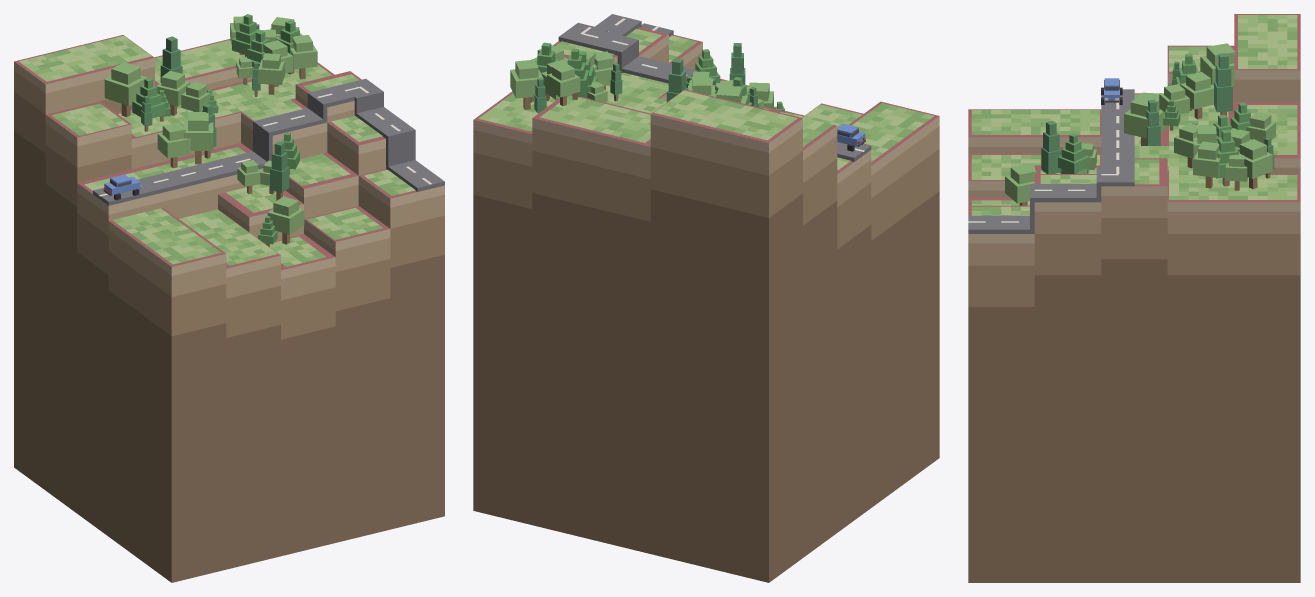
The model's file is block_21_greenroof_0.glb.
The picture shows the model from 3 angles, left to right: view 1: azimuth 30°, elevation 25°; view 2: azimuth 150°, elevation 25°; view 3: azimuth 270°, elevation 25°; orthographic projection. The views are drawn at different scales.
Parts seen in each view (by area): view 1: Patch_UpperRight_b22_GR, Green_UpperRight_b21_GR, Roads_UpperRight_b22_GR, URTree_21_6_GR, URTree_21_13_GR, URTree_21_3_GR, URTree_21_8_GR, URTree_21_11_GR, URTree_21_23_GR, URTree_21_26_GR, URTree_21_10_GR, URTree_21_2_GR (+5 smaller); view 2: Patch_UpperRight_b22_GR, Green_UpperRight_b21_GR, Roads_UpperRight_b22_GR, URTree_21_25_GR, URTree_21_17_GR, URTree_21_7_GR; view 3: Patch_UpperRight_b22_GR, Green_UpperRight_b21_GR, Roads_UpperRight_b22_GR, URTree_21_3_GR, URTree_21_25_GR, URTree_21_7_GR, URTree_21_10_GR, URTree_21_13_GR, URTree_21_23_GR, URTree_21_11_GR, URTree_21_15_GR, URTree_21_6_GR (+8 smaller).
Part boxes in pixels (box(x1,y1,x2,y2)): Patch_UpperRight_b22_GR: box(14, 35, 444, 582); Green_UpperRight_b21_GR: box(19, 35, 415, 266); Roads_UpperRight_b22_GR: box(93, 78, 444, 205); URTree_21_6_GR: box(104, 62, 147, 117); URTree_21_13_GR: box(267, 196, 304, 244); URTree_21_3_GR: box(183, 112, 213, 164); URTree_21_8_GR: box(157, 122, 190, 168); URTree_21_11_GR: box(270, 141, 289, 200); URTree_21_23_GR: box(290, 35, 317, 79); URTree_21_26_GR: box(258, 53, 284, 94); URTree_21_10_GR: box(156, 71, 190, 115); URTree_21_2_GR: box(132, 77, 165, 125); Patch_UpperRight_b22_GR: box(473, 27, 939, 582); Green_UpperRight_b21_GR: box(478, 29, 934, 169); Roads_UpperRight_b22_GR: box(558, 14, 871, 161); URTree_21_25_GR: box(510, 59, 543, 109); URTree_21_17_GR: box(547, 63, 580, 106); URTree_21_7_GR: box(666, 58, 688, 102); Patch_UpperRight_b22_GR: box(968, 14, 1300, 582); Green_UpperRight_b21_GR: box(971, 15, 1297, 215); Roads_UpperRight_b22_GR: box(968, 89, 1134, 233); URTree_21_3_GR: box(1124, 94, 1167, 145); URTree_21_25_GR: box(1239, 139, 1272, 189); URTree_21_7_GR: box(1214, 53, 1232, 115); URTree_21_10_GR: box(1180, 71, 1213, 119); URTree_21_13_GR: box(1005, 164, 1036, 205); URTree_21_23_GR: box(1193, 141, 1220, 188); URTree_21_11_GR: box(1041, 120, 1061, 173); URTree_21_15_GR: box(1058, 133, 1089, 173); URTree_21_6_GR: box(1200, 43, 1235, 85).
Size of the model in its own units: 9.55 by 14.16 by 9.5.
